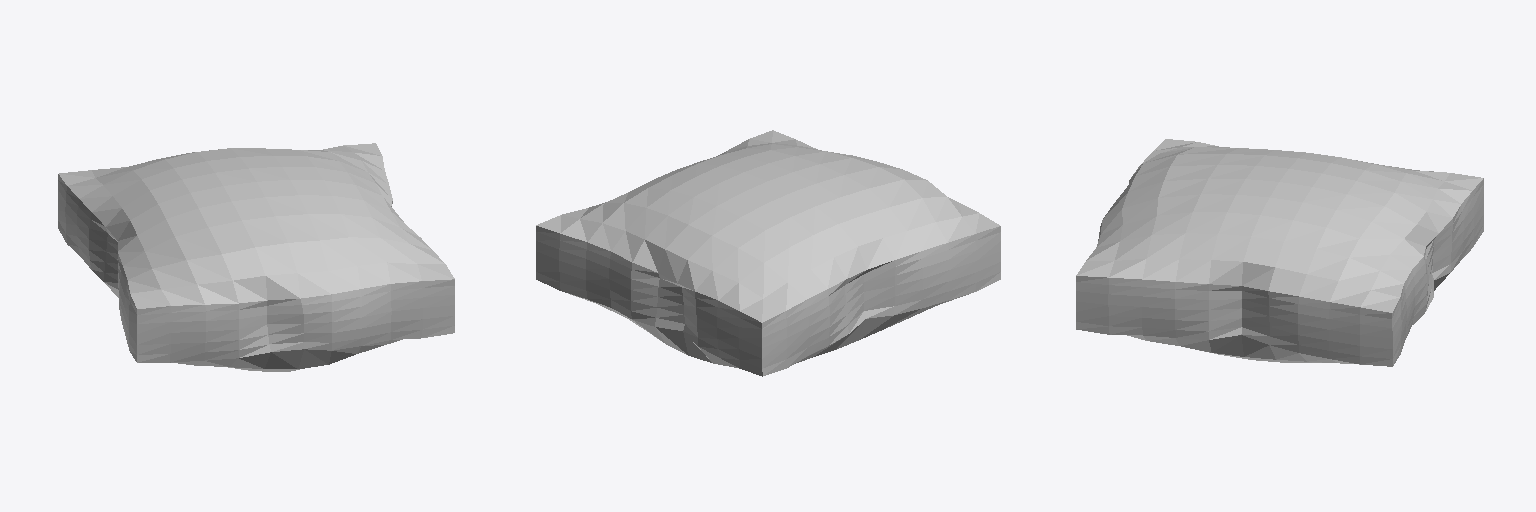
File: PillowSquare.obj
3 renders of one model, left to right at view 1: azimuth 30°, elevation 25°; view 2: azimuth 150°, elevation 25°; view 3: azimuth 270°, elevation 25°, orthographic.
Parts seen in each view (by area): view 1: seat_pillow1 seat_pillows witch_tower; view 2: seat_pillow1 seat_pillows witch_tower; view 3: seat_pillow1 seat_pillows witch_tower.
Part boxes in pixels (left/top/right/bottom): seat_pillow1 seat_pillows witch_tower: left=58, top=143, right=454, bottom=371; seat_pillow1 seat_pillows witch_tower: left=536, top=130, right=1000, bottom=376; seat_pillow1 seat_pillows witch_tower: left=1076, top=139, right=1483, bottom=366.
Size of the model in its own units: 3.18 by 1.28 by 3.19.